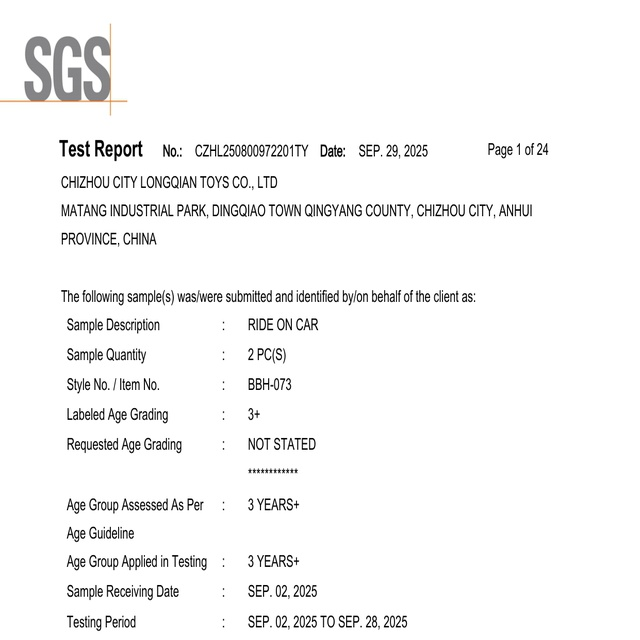sgs: (25, 36, 112, 103)
